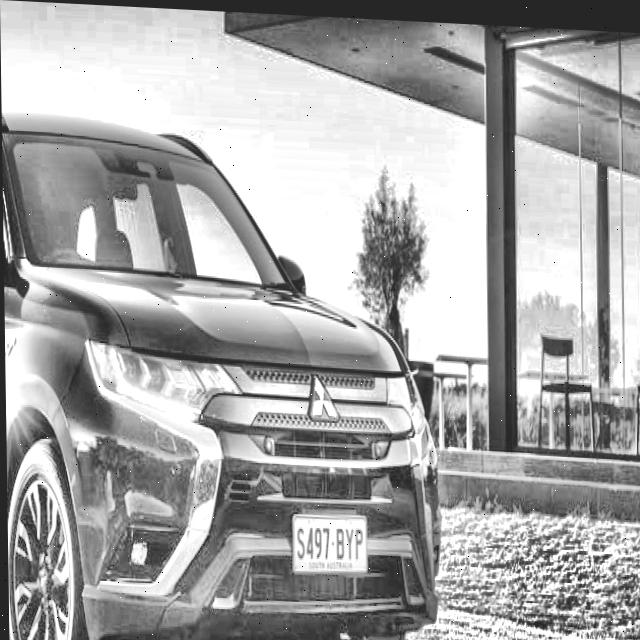light_vehicle: (1, 104, 441, 640)
